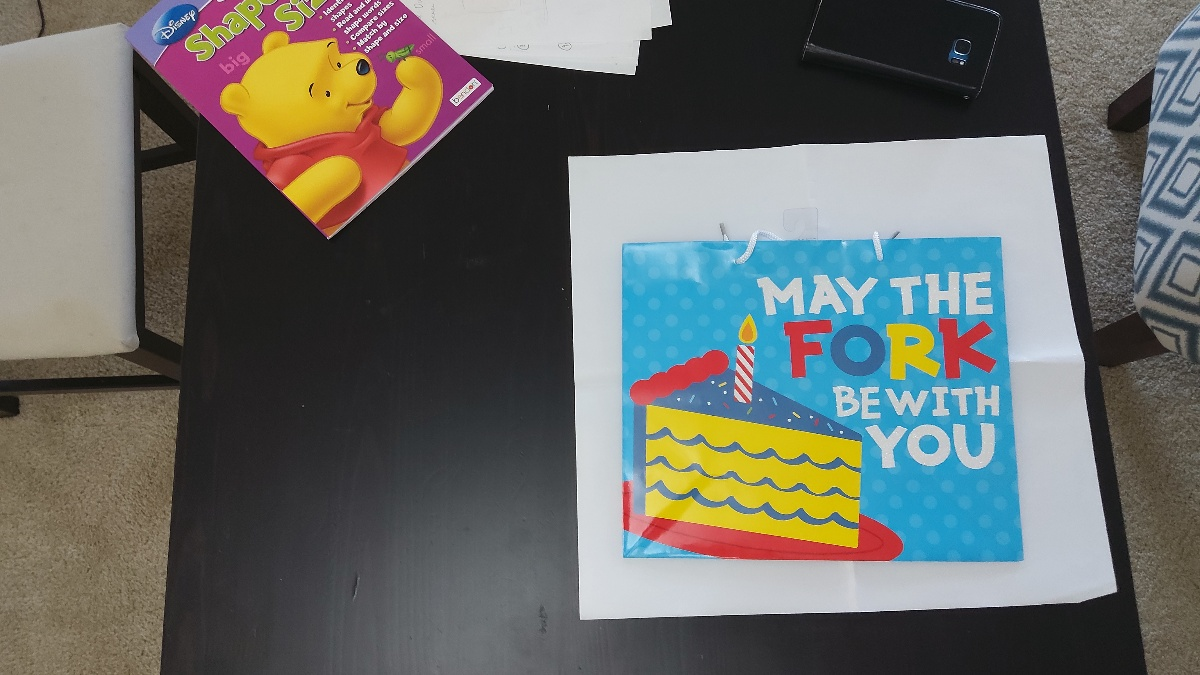paper_bag: (622, 242, 1019, 558)
